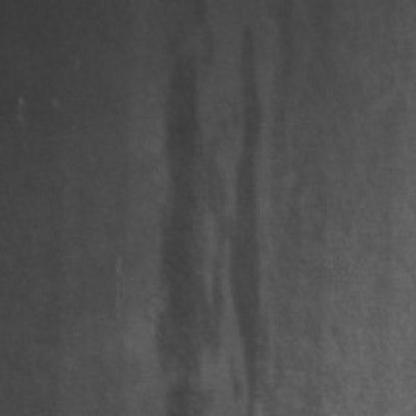inclusion: (154, 18, 260, 410)
